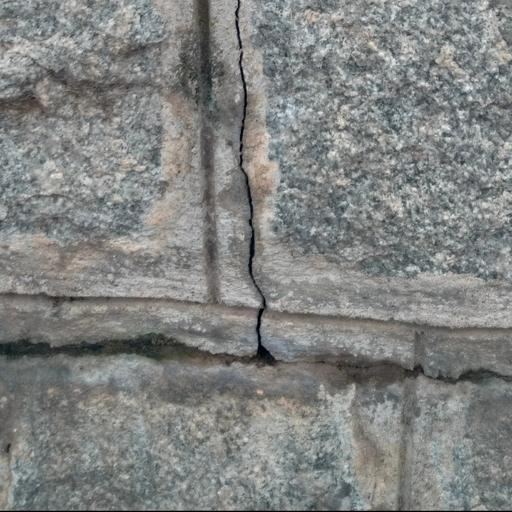major_crack: (0, 326, 512, 401), (212, 0, 286, 367)
